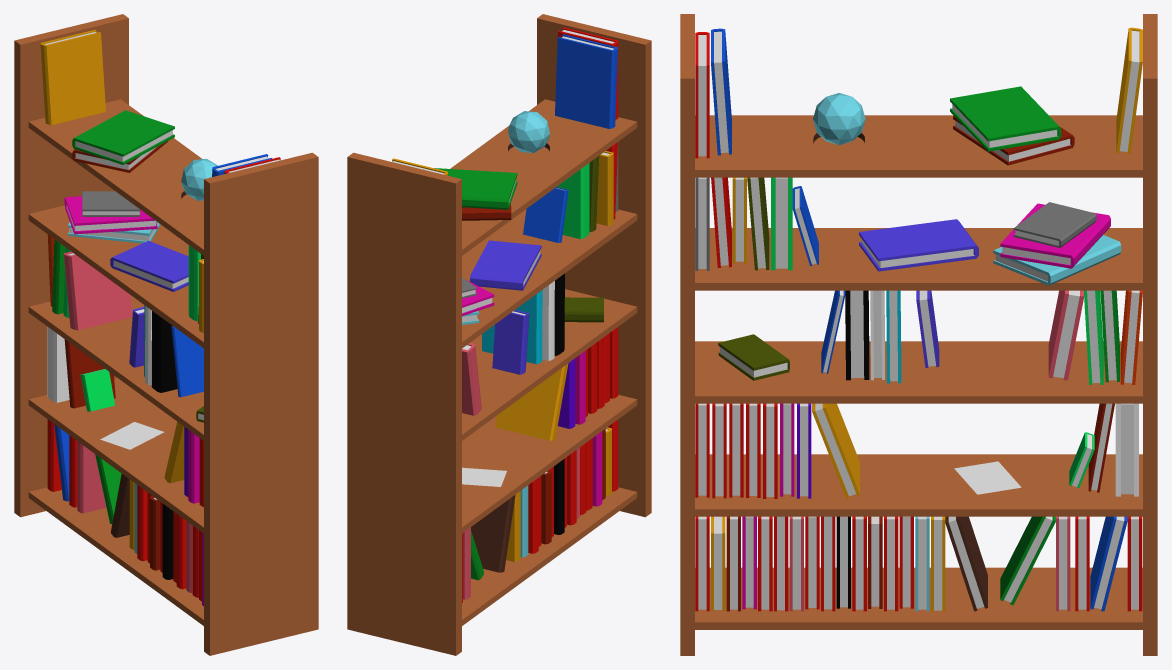
File: bookshelf.glb
3 renders of one model, left to right at view 1: azimuth 30°, elevation 25°; view 2: azimuth 150°, elevation 25°; view 3: azimuth 270°, elevation 25°, orthographic. The views are drawn at different scales.
Parts seen in each view (by area): view 1: bookshelf; view 2: bookshelf; view 3: bookshelf.
Boxes of the visible parts, x1,y1,x2,y2 form: bookshelf: (14,14,318,655); bookshelf: (347,14,651,655); bookshelf: (680,14,1157,655).
Size of the model in its own units: 0.1643 by 0.6829 by 0.5118.
